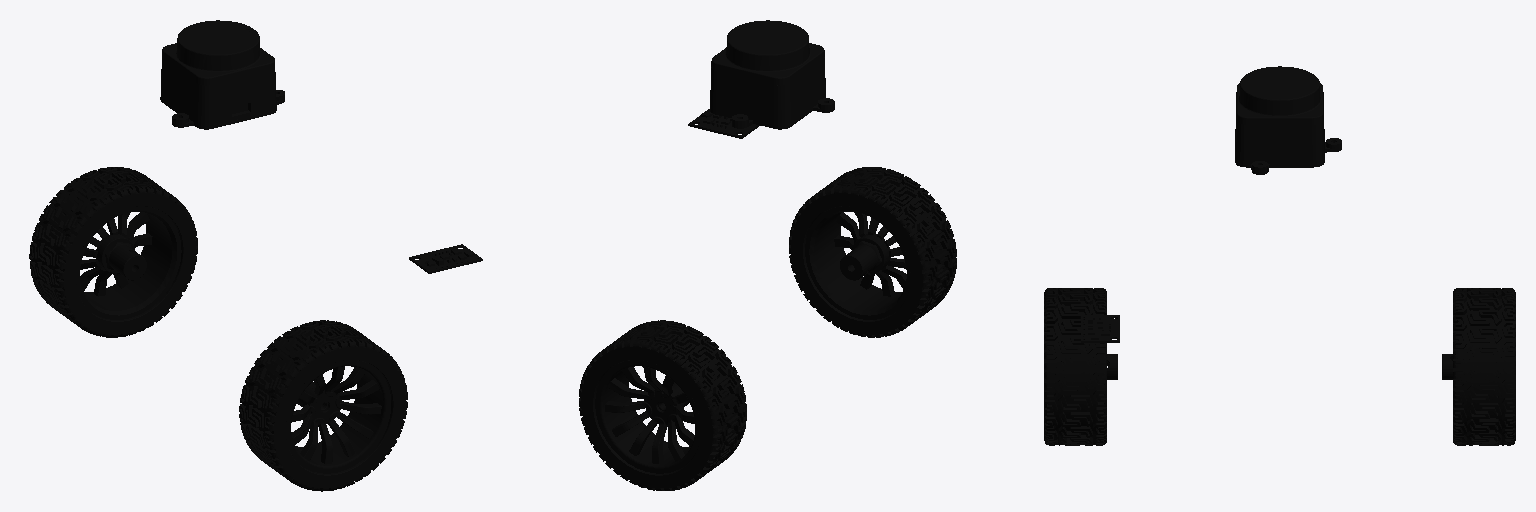
robot.urdf — lenna_description:
<?xml version="1.0" encoding="utf-8"?>
<robot
  name="lenna_description">

  <!-- <link 
    name="world"/>
  <joint 
    name="world_joint" 
    type="fixed">
    <parent 
      link="world"/>
    <child 
      link="base_link"/>
    <origin 
      rpy="0 0 0" 
      xyz="0.0 0.0 0.02"/>
  </joint> -->

  <link
    name="base_link">
    <inertial>
      <origin
        xyz="0.0 0.0 0.0"
        rpy="0 0 0" />
      <mass
        value="2" />
      <inertia
        ixx="0.01"
        ixy="0.0"
        ixz="0.0"
        iyy="0.01"
        iyz="0.0"
        izz="0.5" />
    </inertial>
    <visual>
      <origin
        xyz="0 0 0"
        rpy="0 0 0" />
      <geometry>
        <mesh
          filename="package://lenna_description/meshes/base_link.STL" />
      </geometry>
      <material
        name="">
        <color
          rgba="0.12 0.12 0.12 1" />
      </material>
    </visual>
    <collision>
      <origin
        xyz="0 0 0"
        rpy="0 0 0" />
      <geometry>
        <mesh
          filename="package://lenna_description/meshes/base_link.STL" />
      </geometry>
    </collision>
  </link>
  <link
    name="right_wheel_link">
    <inertial>
      <origin
        xyz="0.0 0.0 0.0"
        rpy="0 0 0" />
      <mass
        value="0.05" />
      <inertia
        ixx="0.001"
        ixy="0.0"
        ixz="0.0"
        iyy="0.001"
        iyz="0.0"
        izz="0.001" />
    </inertial>
    <visual>
      <origin
        xyz="0 0 0"
        rpy="0 0 0" />
      <geometry>
        <mesh
          filename="package://lenna_description/meshes/right_wheel_link.STL" />
      </geometry>
      <material
        name="">
        <color
          rgba="0.075 0.075 0.075 1" />
      </material>
    </visual>
    <collision>
      <origin
        xyz="0 0 0"
        rpy="0 0 0" />
      <geometry>
        <mesh
          filename="package://lenna_description/meshes/right_wheel_link.STL" />
      </geometry>
    </collision>
  </link>
  <joint
    name="right_wheel_joint"
    type="continuous">
    <origin
      xyz="6.9033E-05 -0.08975 0.0150125"
      rpy="1.5708 0 0" />
    <parent
      link="base_link" />
    <child
      link="right_wheel_link" />
    <axis
      xyz="0 0 -1" />
    <limit
      effort="0.52"
      velocity="31" />
    <dynamics
      damping="0.01"
      friction="0.6" />
  </joint>
  <link
    name="left_wheel_link">
    <inertial>
      <origin
        xyz="0.0 0.0 0.0"
        rpy="0 0 0" />
      <mass
        value="0.05" />
      <inertia
        ixx="0.001"
        ixy="0.0"
        ixz="0.0"
        iyy="0.001"
        iyz="0.0"
        izz="0.001" />
    </inertial>
    <visual>
      <origin
        xyz="0 0 0"
        rpy="0 0 0" />
      <geometry>
        <mesh
          filename="package://lenna_description/meshes/left_wheel_link.STL" />
      </geometry>
      <material
        name="">
        <color
          rgba="0.075 0.075 0.075 1" />
      </material>
    </visual>
    <collision>
      <origin
        xyz="0 0 0"
        rpy="0 0 0" />
      <geometry>
        <mesh
          filename="package://lenna_description/meshes/left_wheel_link.STL" />
      </geometry>
    </collision>
  </link>
  <joint
    name="left_wheel_joint"
    type="continuous">
    <origin
      xyz="6.9033E-05 0.08975 0.0150125"
      rpy="-1.5708 0 0" />
    <parent
      link="base_link" />
    <child
      link="left_wheel_link" />
    <axis
      xyz="0 0 1" />
    <limit
      effort="0.52"
      velocity="31" />
    <dynamics
      damping="0.01"
      friction="0.6" />
  </joint>

  <link
    name="laser_scanner_link">
    <inertial>
      <origin
        xyz="0.0 0.0 0.0"
        rpy="0 0 0" />
      <mass
        value="0.05" />
      <inertia
        ixx="0.0001"
        ixy="0.0"
        ixz="0.0"
        iyy="0.0001"
        iyz="0.0"
        izz="0.0001" />
    </inertial>
    <visual>
      <origin
        xyz="0 0 0"
        rpy="0 0 0" />
      <geometry>
        <mesh
          filename="package://lenna_description/meshes/laser_scanner_link.STL" />
      </geometry>
      <material
        name="">
        <color
          rgba="0.08 0.08 0.08 1" />
      </material>
    </visual>
    <collision>
      <origin
        xyz="0 0 0"
        rpy="0 0 0" />
      <geometry>
        <mesh
          filename="package://lenna_description/meshes/laser_scanner_link.STL" />
      </geometry>
    </collision>
  </link>
  <joint
    name="laser_scanner_joint"
    type="fixed">
    <origin
      xyz="6.9033E-05 0 0.14644"
      rpy="0 0 0" />
    <parent
      link="base_link" />
    <child
      link="laser_scanner_link" />
    <axis
      xyz="0 0 0" />
  </joint>
  <link
    name="inertial_sensor_link">
    <inertial>
      <origin
        xyz="0.0 0.0 0.0"
        rpy="0 0 0" />
      <mass
        value="0.005" />
      <inertia
        ixx="0.00001"
        ixy="0.0"
        ixz="0.0"
        iyy="0.00001"
        iyz="0.0"
        izz="0.00001" />
    </inertial>
    <visual>
      <origin
        xyz="0 0 0"
        rpy="0 0 0" />
      <geometry>
        <mesh
          filename="package://lenna_description/meshes/inertial_sensor_link.STL" />
      </geometry>
      <material
        name="">
        <color
          rgba="0.08 0.08 0.08 1" />
      </material>
    </visual>
    <collision>
      <origin
        xyz="0 0 0"
        rpy="0 0 0" />
      <geometry>
        <mesh
          filename="package://lenna_description/meshes/inertial_sensor_link.STL" />
      </geometry>
    </collision>
  </link>
  <joint
    name="inertial_sensor_joint"
    type="fixed">
    <origin
      xyz="0.065091 -0.077436 0.064"
      rpy="0 0 0" />
    <parent
      link="base_link" />
    <child
      link="inertial_sensor_link" />
    <axis
      xyz="0 0 0" />
  </joint>

  <!--   JOINTS' TRANSMISSIONS AND ACTUATION   -->
  <transmission 
    name="right_wheel_link_trans">
    <type>transmission_interface/SimpleTransmission</type>
    <joint name="right_wheel_joint">
      <hardwareInterface>hardware_interface/VelocityJointInterface</hardwareInterface>
    </joint>
    <actuator 
      name="right_wheel_link_motor">
      <hardwareInterface>hardware_interface/VelocityJointInterface</hardwareInterface>
      <mechanicalReduction>1</mechanicalReduction>
    </actuator>
  </transmission>

  <transmission 
    name="left_wheel_link_trans">
    <type>transmission_interface/SimpleTransmission</type>
    <joint name="left_wheel_joint">
      <hardwareInterface>hardware_interface/VelocityJointInterface</hardwareInterface>
    </joint>
    <actuator 
      name="left_wheel_link_motor">
      <hardwareInterface>hardware_interface/VelocityJointInterface</hardwareInterface>
      <mechanicalReduction>1</mechanicalReduction>
    </actuator>
  </transmission>

  <!--   GAZEBO PLUGINS AND CONFIGURATIONS   -->
  <gazebo>
    <plugin name="gazebo_ros_control" filename="libgazebo_ros_control.so">
      <robotNamespace>/LENNA</robotNamespace>
    </plugin>
  </gazebo>

  <gazebo reference="right_wheel_link">
    <mu1 value="200.0"/>
    <mu2 value="100.0"/>
    <kp value="10000000.0" />
    <kd value="1.0" />
    <material>Gazebo/Grey</material>
  </gazebo>

  <gazebo reference="left_wheel_link">
    <mu1 value="200.0"/>
    <mu2 value="100.0"/>
    <kp value="10000000.0" />
    <kd value="1.0" />
    <material>Gazebo/Grey</material>
  </gazebo>
</robot>

--- What the picture shows (computed from the rendered views, not written in the file) ---
3 views of the same robot in one strip: view 1: azimuth 30°, elevation 25°; view 2: azimuth 150°, elevation 25°; view 3: azimuth 270°, elevation 25° (orthographic).
Robot: lenna_description — 5 links, 4 joints (2 continuous, 2 fixed); root link base_link; default pose: every joint at zero.
Links seen in each view (by area): view 1: left_wheel_link, right_wheel_link, laser_scanner_link, inertial_sensor_link; view 2: right_wheel_link, left_wheel_link, laser_scanner_link, inertial_sensor_link; view 3: left_wheel_link, right_wheel_link, laser_scanner_link, inertial_sensor_link.
Boxes of the visible links, <box> form: left_wheel_link: <box>29,167,197,337</box>; right_wheel_link: <box>239,320,407,491</box>; laser_scanner_link: <box>160,20,284,129</box>; inertial_sensor_link: <box>409,244,482,273</box>; right_wheel_link: <box>789,167,956,337</box>; left_wheel_link: <box>579,320,746,490</box>; laser_scanner_link: <box>710,20,834,129</box>; inertial_sensor_link: <box>688,109,759,138</box>; left_wheel_link: <box>1442,288,1515,445</box>; right_wheel_link: <box>1044,288,1117,445</box>; laser_scanner_link: <box>1235,66,1341,174</box>; inertial_sensor_link: <box>1081,315,1119,342</box>.
Size in the robot's own frame: 0.1125 by 0.2035 by 0.1693 metres.
Meshes: 5 distinct files referenced, 4 mesh visuals loaded (4 binary STL); not drawn: 1 (reference not matched to a file when rendering).
